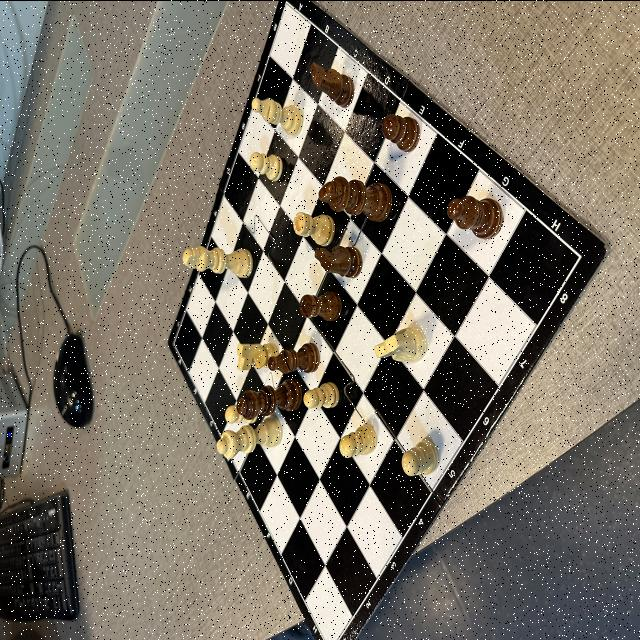Black-Bishop: (446, 194, 504, 240), (268, 342, 320, 374)
Black-King: (318, 176, 392, 222)
Black-Knight: (308, 61, 354, 107), (314, 244, 362, 278)
Black-Pawn: (382, 112, 420, 152)
Black-Queen: (236, 376, 302, 420)
Black-Rook: (299, 289, 342, 321)
White-Bishop: (252, 96, 304, 136)
White-King: (182, 244, 254, 278)
White-Knight: (374, 326, 428, 362), (236, 342, 268, 370)
White-Pawn: (401, 438, 439, 476), (339, 422, 377, 458), (250, 151, 284, 181), (304, 380, 339, 408), (224, 403, 240, 423)
White-Queen: (216, 414, 282, 458)
White-Rook: (293, 210, 335, 246)
